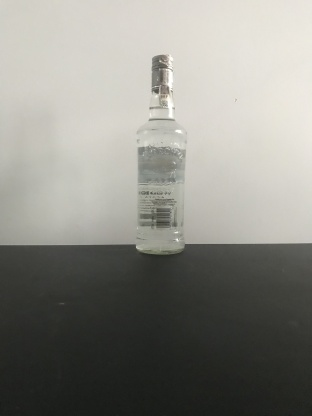nakretka: (149, 52, 175, 93)
